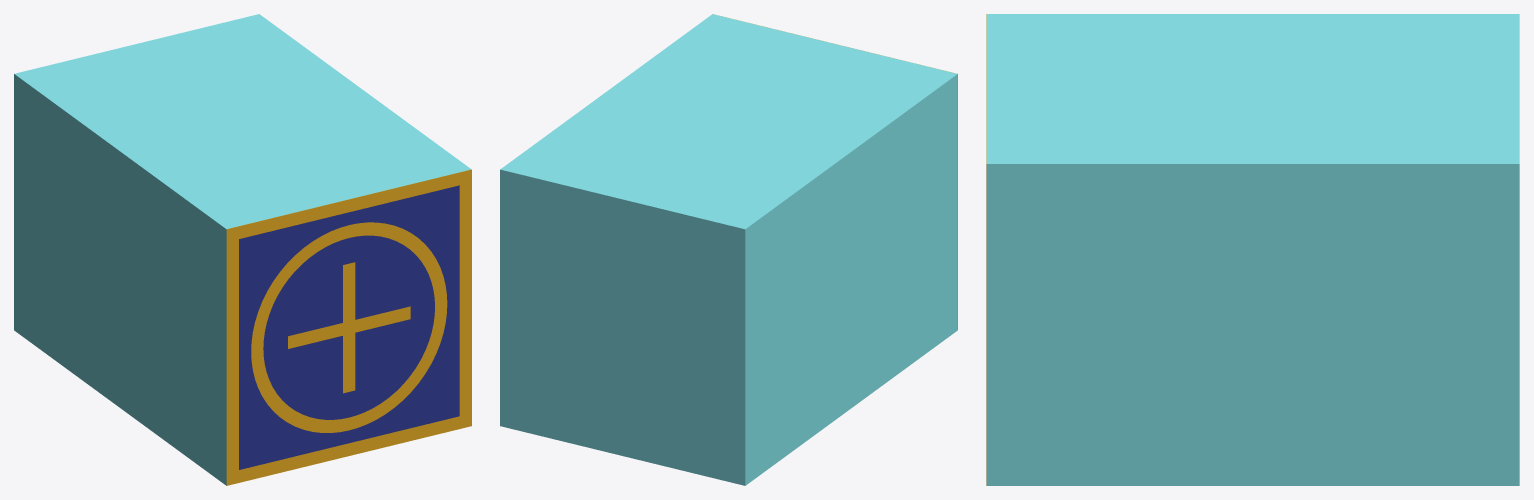
Rendered from suspended_landing_platform.obj.
3 views of the same model, side by side, from view 1: azimuth 30°, elevation 25°; view 2: azimuth 150°, elevation 25°; view 3: azimuth 270°, elevation 25° (orthographic). The views are drawn at different scales.
Parts seen in each view (by area): view 1: landing_platform_plate_1_Body1.009, landing_platform_blue_circle_Body4.004, landing_platform_blue_frame_Body2.005, landing_platform_yellow_frame_Body1.022, landing_platform_yellow_circle_Body3.004, landing_platform_cross_Body5.003; view 2: landing_platform_plate_1_Body1.009; view 3: landing_platform_plate_1_Body1.009.
Part boxes in pixels (bbox=[...]): landing_platform_plate_1_Body1.009: bbox=[14, 14, 471, 485]; landing_platform_blue_circle_Body4.004: bbox=[263, 235, 434, 419]; landing_platform_blue_frame_Body2.005: bbox=[239, 185, 459, 469]; landing_platform_yellow_frame_Body1.022: bbox=[226, 169, 471, 485]; landing_platform_yellow_circle_Body3.004: bbox=[251, 222, 447, 432]; landing_platform_cross_Body5.003: bbox=[288, 262, 410, 393]; landing_platform_plate_1_Body1.009: bbox=[500, 14, 957, 485]; landing_platform_plate_1_Body1.009: bbox=[986, 14, 1519, 485].
Size of the model in its own units: 1 by 1 by 1.5.
